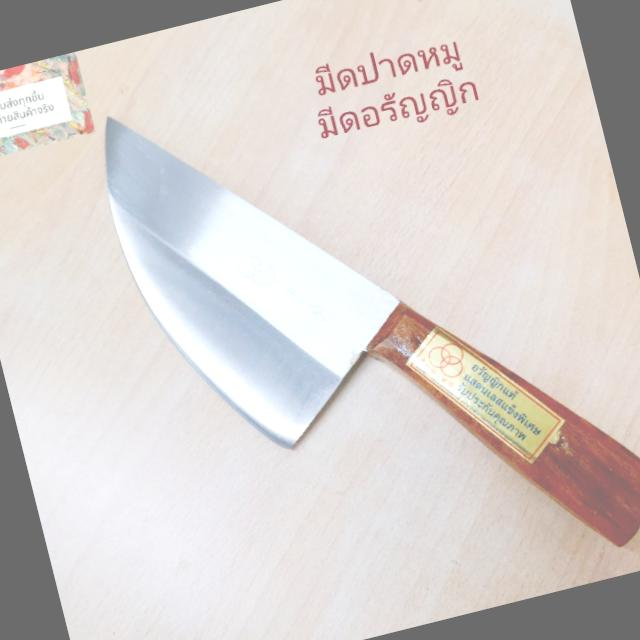cleaver: (88, 12, 640, 640)
